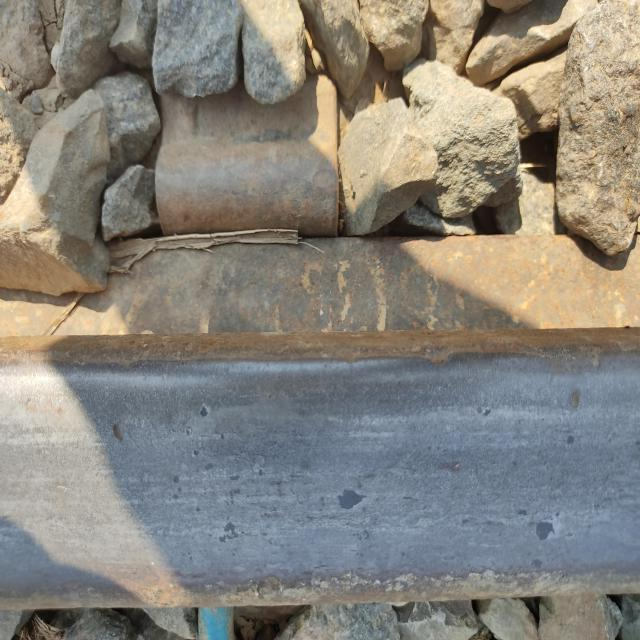squats_high: (337, 488, 363, 510), (218, 522, 237, 546), (109, 419, 126, 445), (534, 517, 553, 539), (564, 389, 581, 413), (527, 556, 543, 574), (563, 430, 577, 447), (199, 406, 210, 422)
